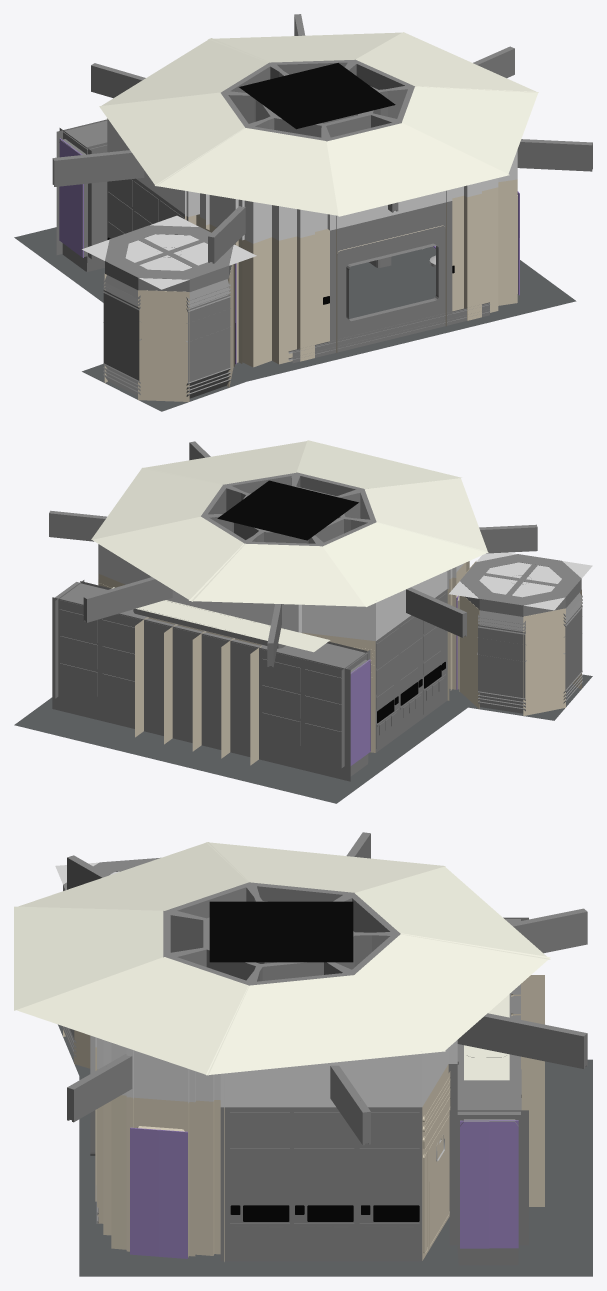
File: sutherlandbridge3.fbx
The picture shows the model from 3 angles, top to bottom: view 1: azimuth 30°, elevation 25°; view 2: azimuth 150°, elevation 25°; view 3: azimuth 270°, elevation 25°; orthographic projection. The views are drawn at different scales.
Visible parts, largest first — view 1: Plane.043, Plane.011, Plane.016, Circle, Plane.012, Plane.022, Plane.020, Plane.026, Plane.045, Plane.034, Plane.037, Plane.024 (+15 smaller); view 2: Plane.043, Plane.010, Plane.009, Circle, Plane.012, Plane.022, Plane.026, Plane.020, Plane.045, Plane.034, Cube.000, Plane.024 (+16 smaller); view 3: Plane.043, Circle, Plane.009, Plane.022, Plane.012, Plane.020, Plane.045, Plane.011, Plane.007, Plane.005, Plane.001, Plane.017 (+12 smaller).
Boxes of the visible parts, bbox=[...] form: Plane.043: bbox=[99, 32, 538, 216]; Plane.011: bbox=[185, 179, 517, 367]; Plane.016: bbox=[330, 201, 452, 354]; Circle: bbox=[14, 227, 576, 381]; Plane.012: bbox=[52, 14, 592, 263]; Plane.022: bbox=[107, 38, 517, 243]; Plane.020: bbox=[221, 59, 414, 141]; Plane.026: bbox=[104, 264, 233, 401]; Plane.045: bbox=[239, 63, 395, 129]; Plane.034: bbox=[105, 225, 233, 291]; Plane.037: bbox=[82, 215, 256, 289]; Plane.024: bbox=[188, 295, 230, 382]; Plane.043: bbox=[91, 440, 488, 606]; Plane.010: bbox=[52, 597, 350, 781]; Plane.009: bbox=[59, 593, 445, 756]; Circle: bbox=[14, 689, 467, 803]; Plane.012: bbox=[49, 441, 537, 667]; Plane.022: bbox=[98, 544, 469, 641]; Plane.026: bbox=[459, 590, 581, 715]; Plane.020: bbox=[201, 472, 376, 546]; Plane.045: bbox=[217, 480, 358, 540]; Plane.034: bbox=[460, 554, 581, 616]; Cube.000: bbox=[135, 617, 261, 765]; Plane.024: bbox=[478, 625, 525, 698]; Plane.043: bbox=[14, 842, 550, 1075]; Circle: bbox=[79, 1059, 592, 1276]; Plane.009: bbox=[230, 1069, 521, 1256]; Plane.022: bbox=[95, 1037, 457, 1107]; Plane.012: bbox=[67, 832, 587, 1145]; Plane.020: bbox=[163, 882, 400, 985]; Plane.045: bbox=[209, 901, 353, 962]; Plane.011: bbox=[95, 1047, 224, 1261]; Plane.007: bbox=[220, 1107, 422, 1261]; Plane.005: bbox=[422, 1064, 450, 1260]; Plane.001: bbox=[489, 1120, 518, 1248]; Plane.017: bbox=[460, 1120, 489, 1248].
Bounding box in the file's own units: 1988 × 745 × 1613.
